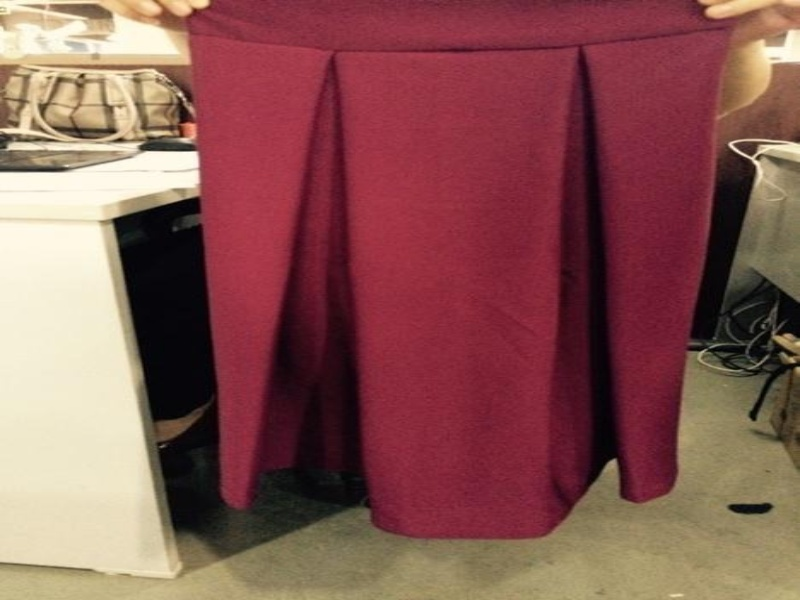skirt: (166, 0, 745, 544)
